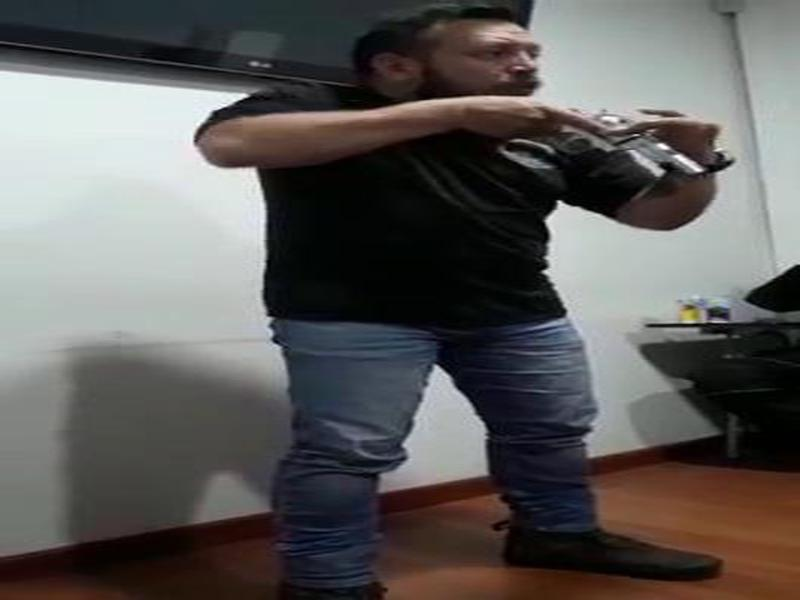Revolver: (512, 73, 712, 206)
